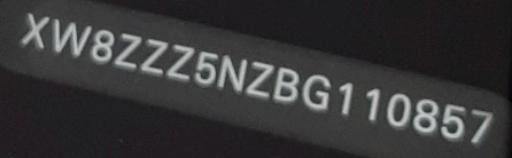letter: (50, 19, 92, 58), (300, 71, 334, 111), (439, 99, 469, 142), (20, 11, 50, 52), (246, 58, 274, 100), (273, 63, 301, 105), (467, 107, 497, 146), (384, 89, 412, 130), (218, 54, 248, 92), (166, 41, 194, 81), (194, 48, 220, 90), (412, 95, 438, 136), (114, 31, 140, 72), (332, 80, 360, 117), (141, 37, 167, 76), (359, 85, 385, 124), (89, 28, 115, 65)
